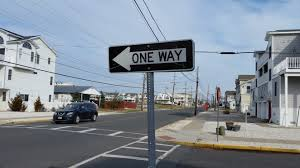oneWay: (108, 39, 197, 72)
